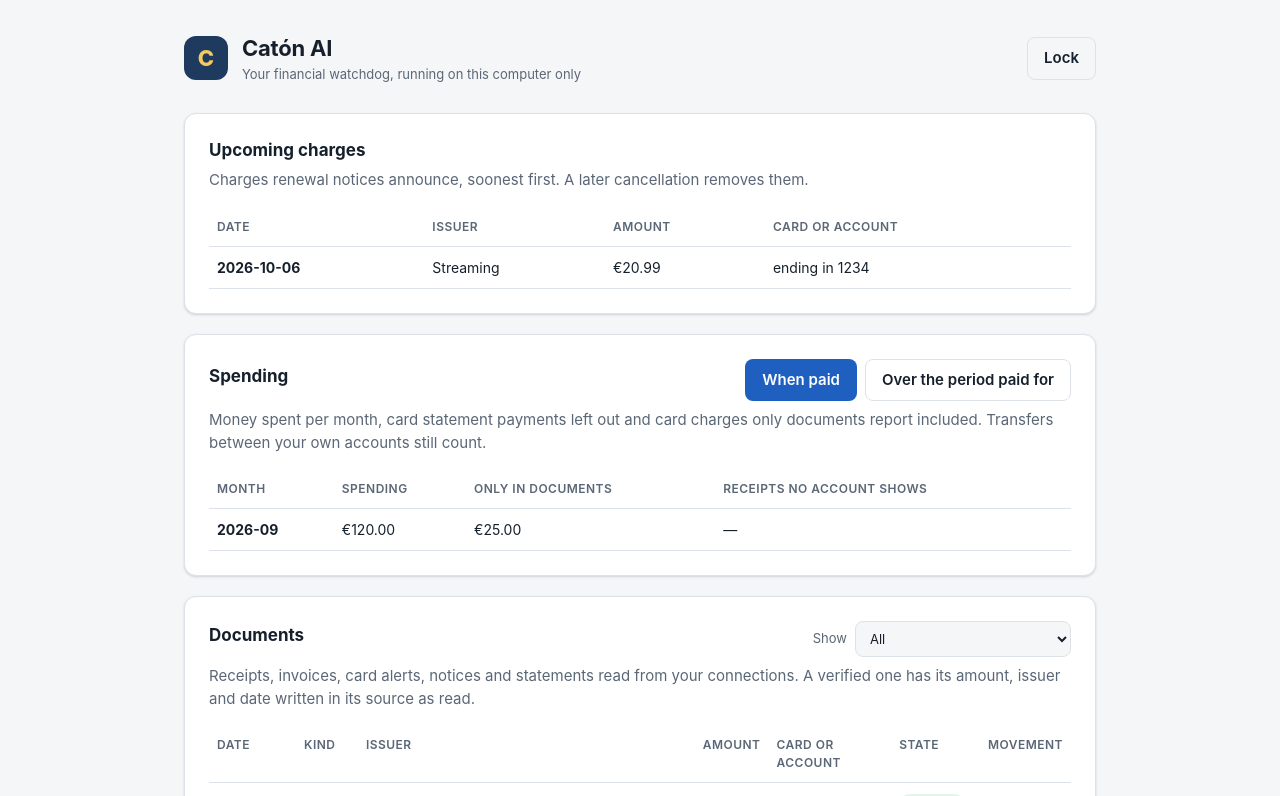
Scenario: the reports of the page › show upcoming charges and spending, on either basis
Expected: the heading "Upcoming charges" is shown, [209, 140, 365, 160]
Expected: the row "2026-10-06" shows "Streaming", [432, 258, 500, 276]
Click the button "Over the period paid for" at (968, 380), box [865, 358, 1071, 401]
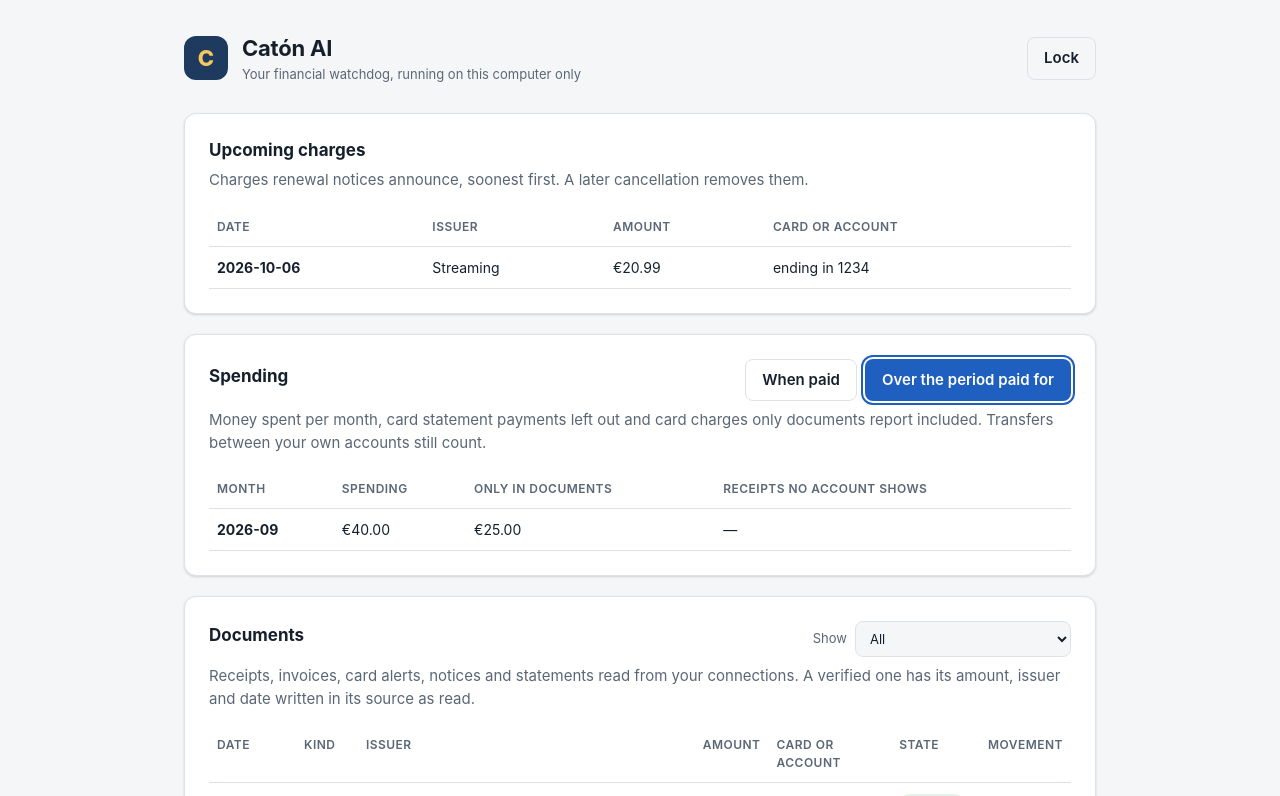
Now the row "2026-09" shows "€40.00", box [342, 521, 390, 538]
